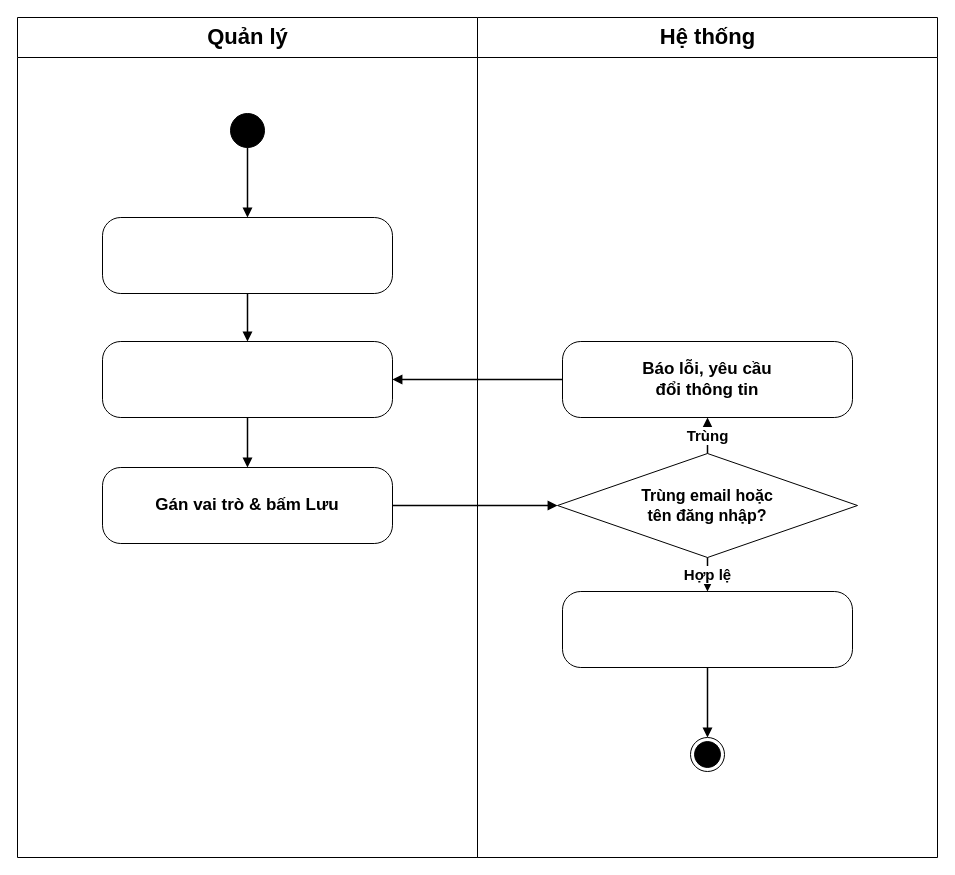
Image size: 955x875. Some labels were removed from this diagram. Each missing label, with the centre of its shape:
"Mở danh mục người dùng & phân quyền" goes at point (247, 255).
"Nhập họ tên, email, chức vụ (Phục vụ, Điều phối, Thu ngân, Quản lý)" goes at point (247, 379).
"Tạo tài khoản, gửi thông tin đăng nhập về email nhân viên" goes at point (707, 629).
